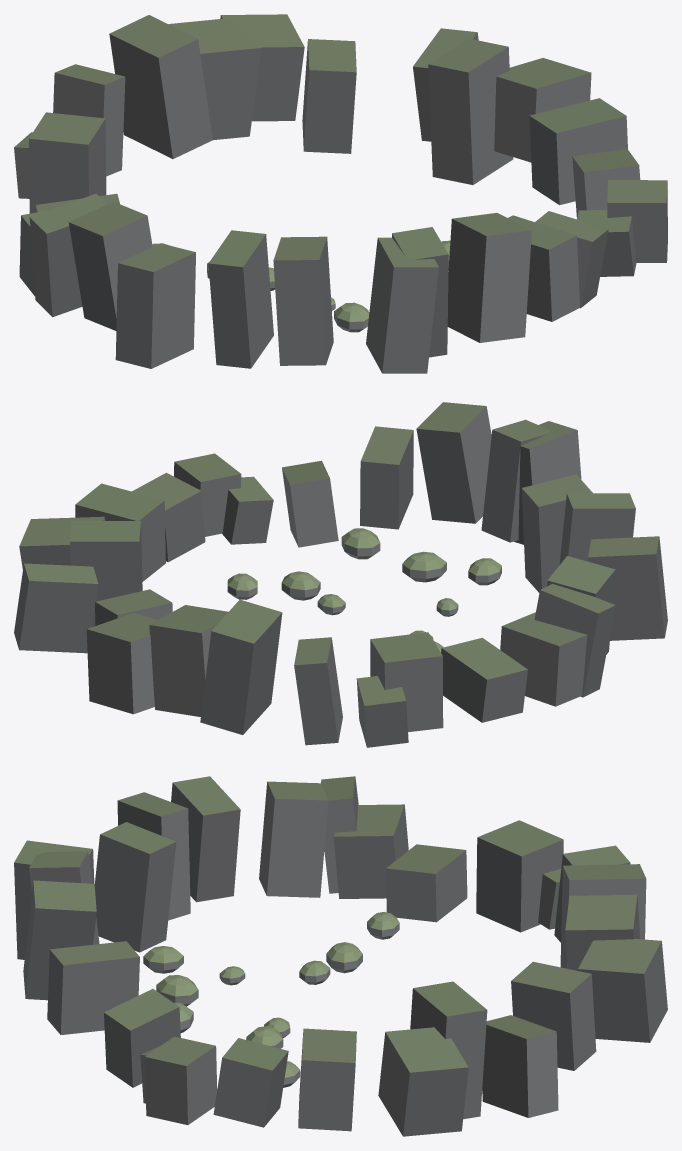
File: Mist_Quarry.fbx
3 views of the same model, one above another, from view 1: azimuth 30°, elevation 25°; view 2: azimuth 150°, elevation 25°; view 3: azimuth 270°, elevation 25° (orthographic). The views are drawn at different scales.
Parts seen in each view (by area): view 1: Mist_Quarry; view 2: Mist_Quarry; view 3: Mist_Quarry.
Part boxes in pixels (box(x1,y1,x2,y2)): Mist_Quarry: box(14, 14, 667, 373); Mist_Quarry: box(14, 402, 667, 747); Mist_Quarry: box(14, 776, 667, 1136).
Bounding box in the file's own units: 38.81 × 9.22 × 38.69.
